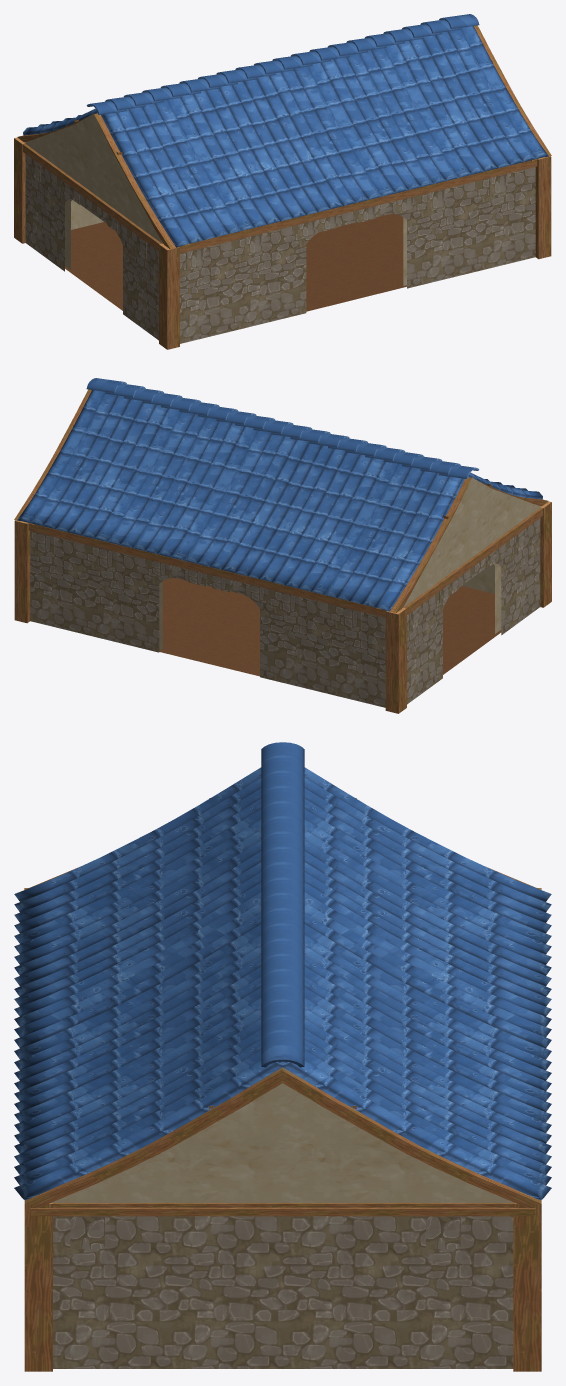
Rendered from Building6Animation_Modular.glb.
3 views of the same model, one above another, from view 1: azimuth 30°, elevation 25°; view 2: azimuth 150°, elevation 25°; view 3: azimuth 270°, elevation 25° (orthographic). The views are drawn at different scales.
Visible parts, largest first — view 1: BA_Roof_02, BA_Wall_01, BA_Floor_01, BA_Trim_01, BA_Roof_03, BA_Roof_01, BA_Wall_02; view 2: BA_Roof_02, BA_Wall_01, BA_Floor_01, BA_Trim_01, BA_Roof_03, BA_Roof_01, BA_Wall_02; view 3: BA_Roof_02, BA_Wall_01, BA_Roof_03, BA_Roof_01, BA_Trim_01.
Boxes of the visible parts, x1=… form: BA_Roof_02: x1=23, y1=14, x2=548, y2=247; BA_Wall_01: x1=25, y1=154, x2=535, y2=343; BA_Floor_01: x1=65, y1=214, x2=406, y2=311; BA_Trim_01: x1=14, y1=137, x2=551, y2=349; BA_Roof_03: x1=24, y1=113, x2=162, y2=243; BA_Roof_01: x1=17, y1=25, x2=551, y2=248; BA_Wall_02: x1=65, y1=199, x2=406, y2=285; BA_Roof_02: x1=17, y1=378, x2=542, y2=611; BA_Wall_01: x1=30, y1=518, x2=540, y2=707; BA_Floor_01: x1=159, y1=578, x2=501, y2=676; BA_Trim_01: x1=14, y1=501, x2=551, y2=713; BA_Roof_03: x1=89, y1=390, x2=541, y2=607; BA_Roof_01: x1=14, y1=389, x2=548, y2=612; BA_Wall_02: x1=159, y1=563, x2=501, y2=649; BA_Roof_02: x1=14, y1=742, x2=551, y2=1200; BA_Wall_01: x1=53, y1=1216, x2=513, y2=1368; BA_Roof_03: x1=51, y1=1068, x2=514, y2=1202; BA_Roof_01: x1=24, y1=798, x2=541, y2=1215; BA_Trim_01: x1=24, y1=888, x2=541, y2=1371.
Size of the model in its own units: 12.65 by 5.92 by 9.08.
Materials: 7 (7 with a texture image).
